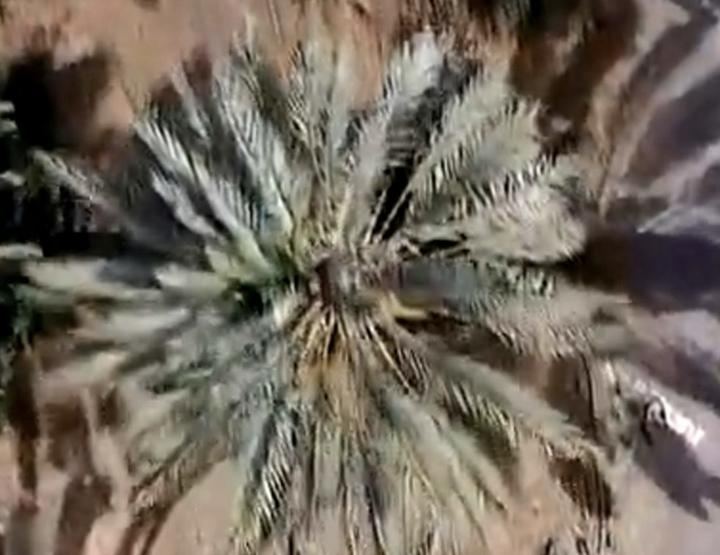Date-Palm-Crown: (184, 100, 524, 446)
